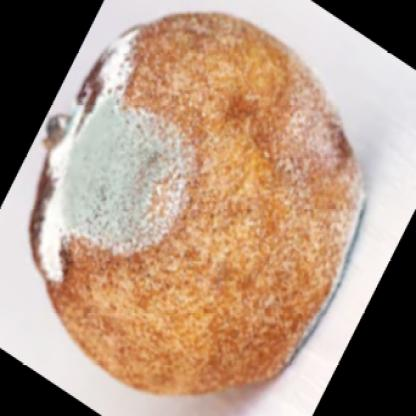rotten: (29, 12, 367, 396)
